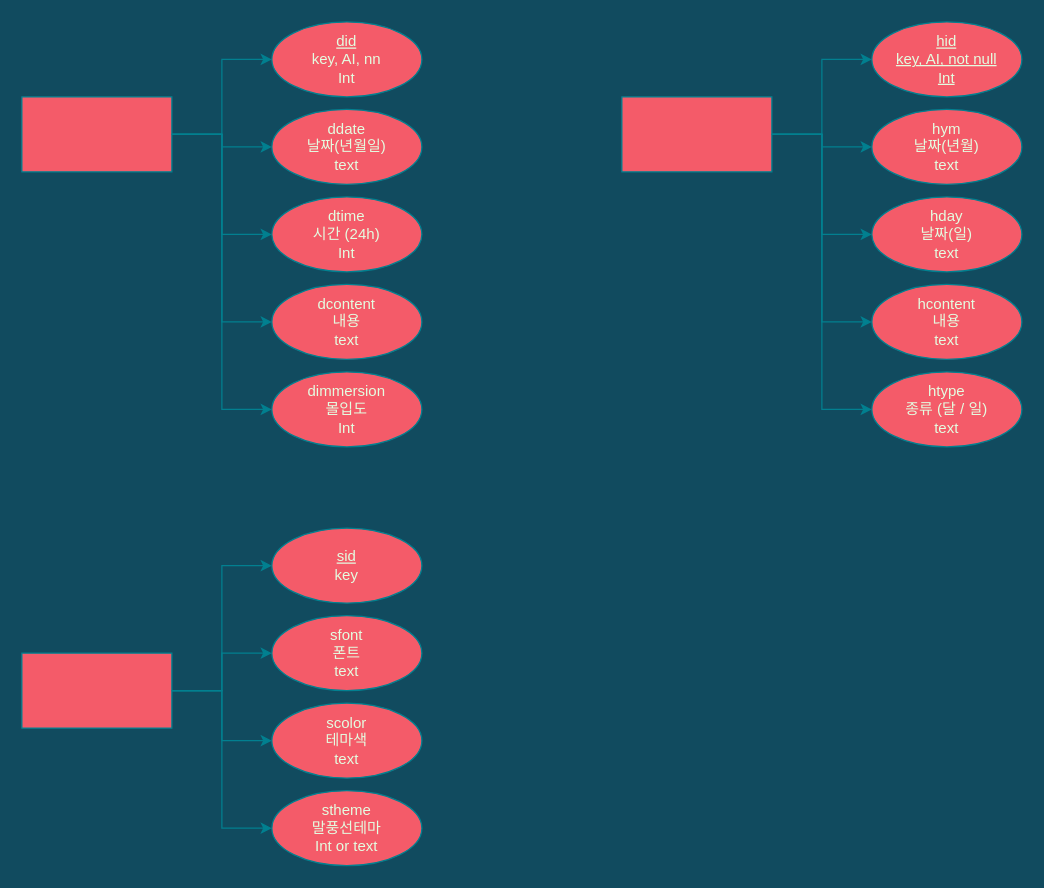
Some shapes in this 1044 by 888 pixel diagram are drawn without their labels. The box of each missing label's shape, as (x1, y1, x2, y2) in pixels:
dailylist: (21, 96, 172, 172)
hashtag: (621, 96, 772, 172)
setting: (21, 652, 172, 728)
